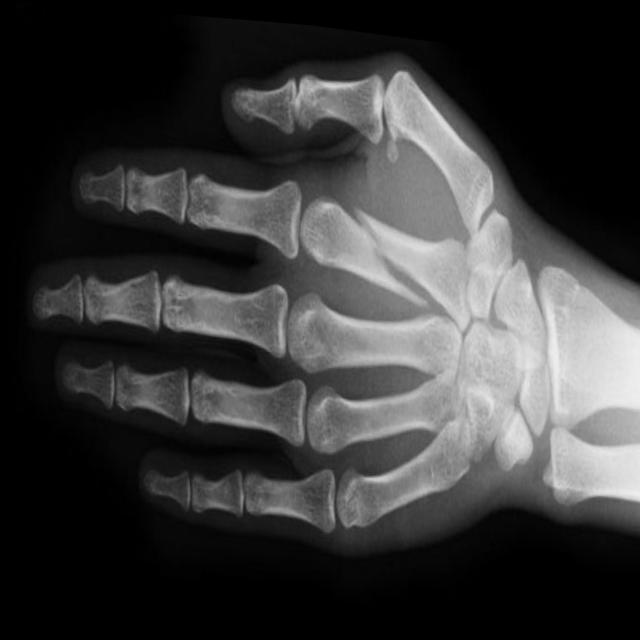fracture: (325, 191, 447, 304)
